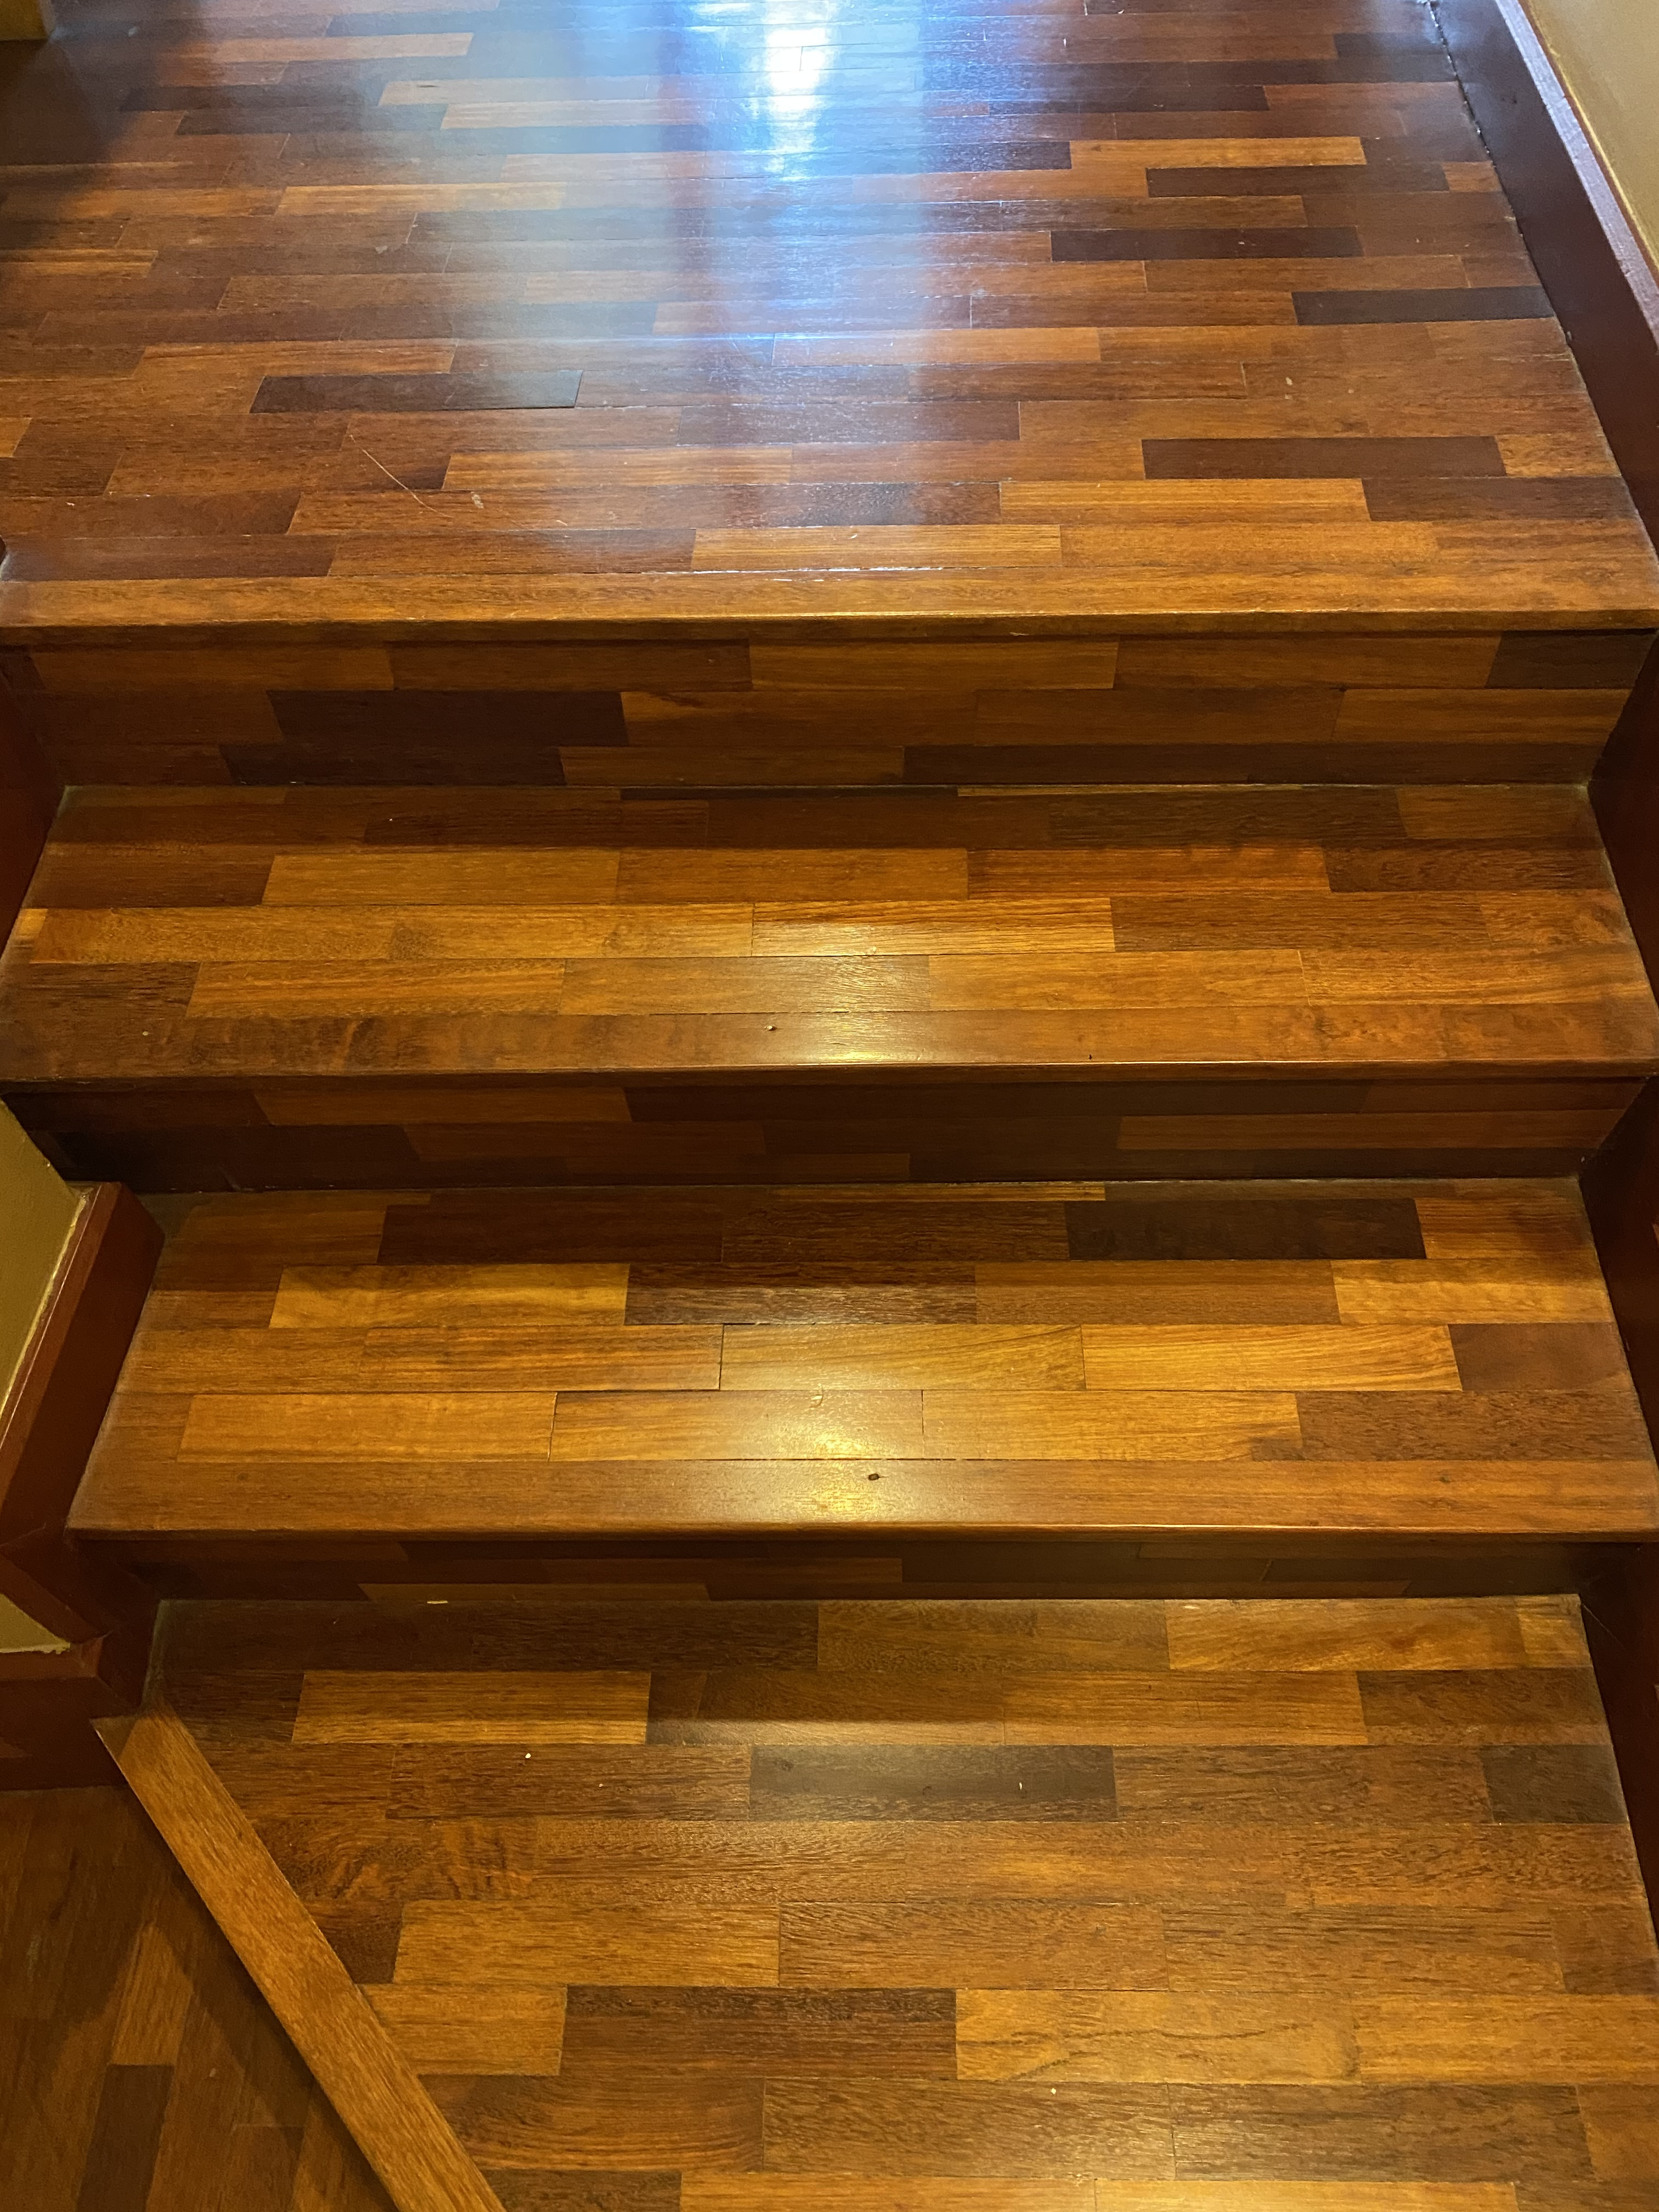upstairs: (143, 475, 1603, 1797)
